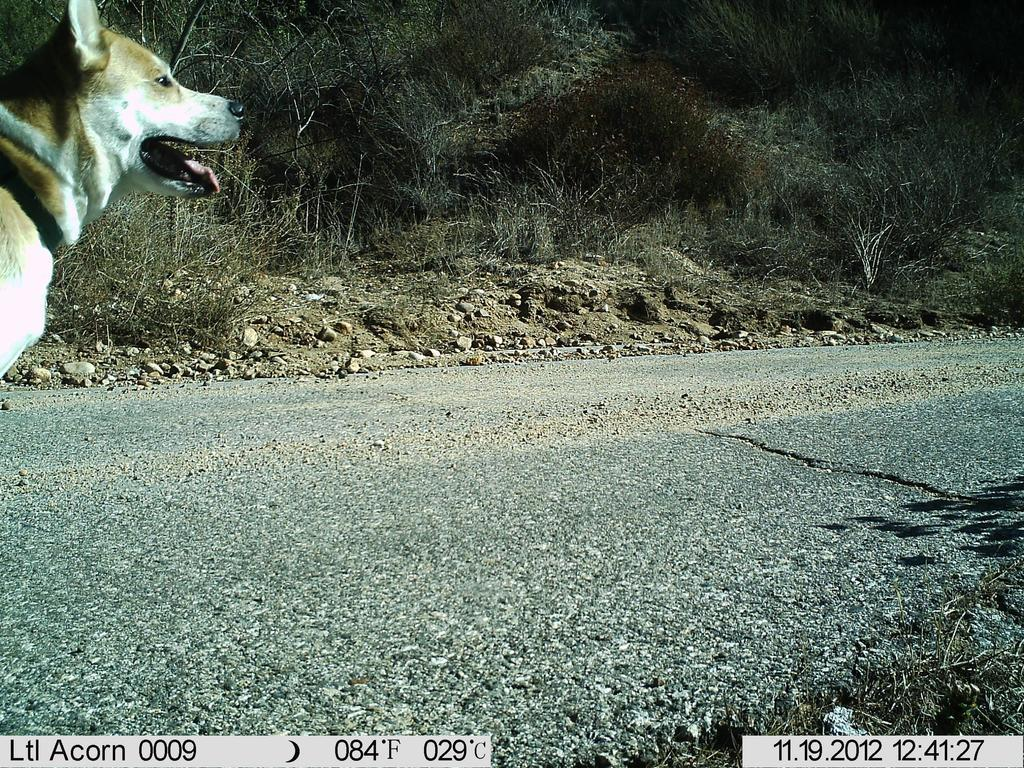dog: (3, 1, 254, 389)
